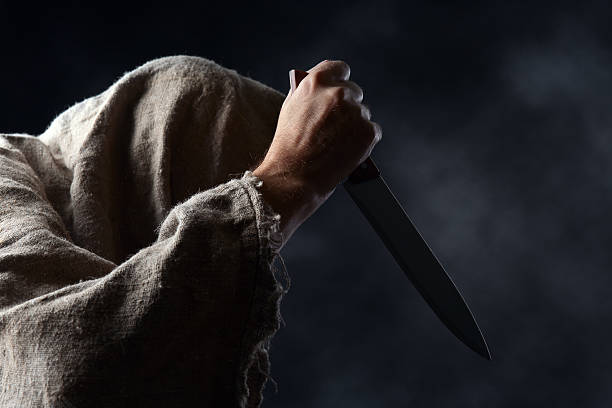knife: (343, 170, 494, 362)
